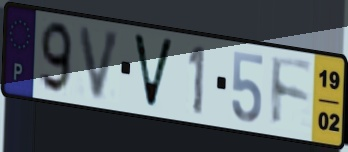1: (187, 43, 207, 116)
5: (230, 48, 265, 126)
9: (37, 19, 75, 96)
F: (269, 52, 315, 131)
V: (77, 23, 125, 103), (130, 30, 176, 113)
